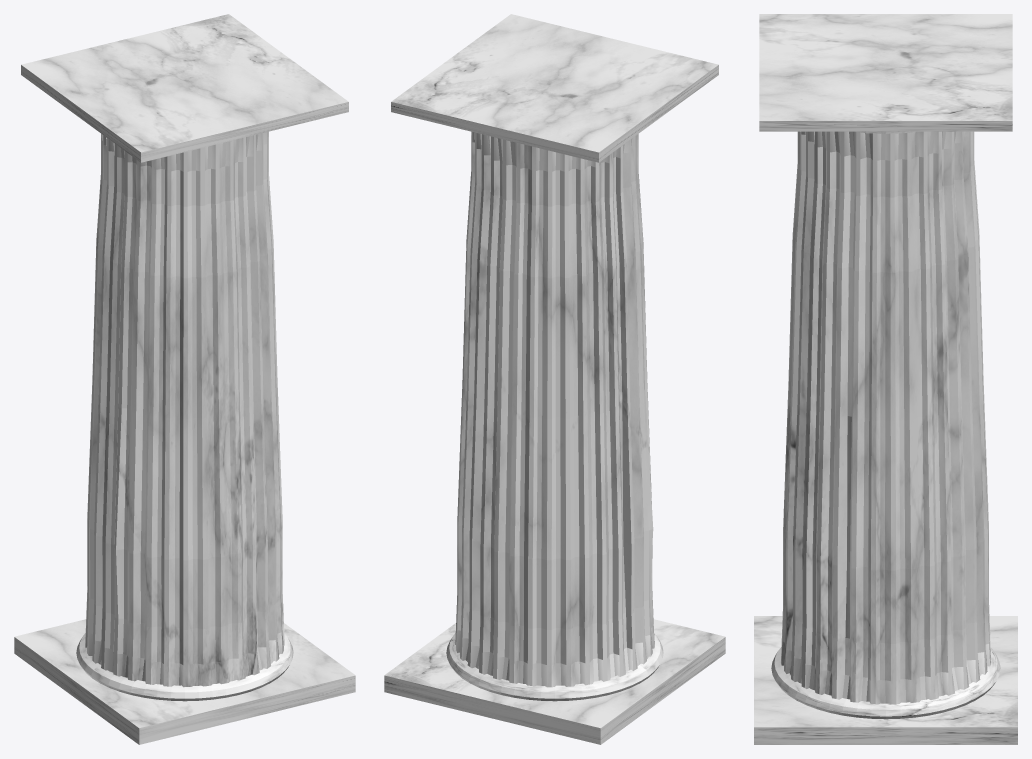
The model's file is column.glb.
The picture shows the model from 3 angles, left to right: view 1: azimuth 30°, elevation 25°; view 2: azimuth 150°, elevation 25°; view 3: azimuth 270°, elevation 25°; orthographic projection. The views are drawn at different scales.
Parts seen in each view (by area): view 1: column; view 2: column; view 3: column.
Part boxes in pixels (x1,y1,x2,y2): column: (14, 14, 355, 744); column: (384, 14, 725, 744); column: (754, 14, 1017, 744).
Size of the model in its own units: 0.5703 by 1.48 by 0.5703.
Materials: 1 (1 with a texture image).
